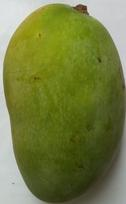Unripe: (1, 1, 126, 204)
